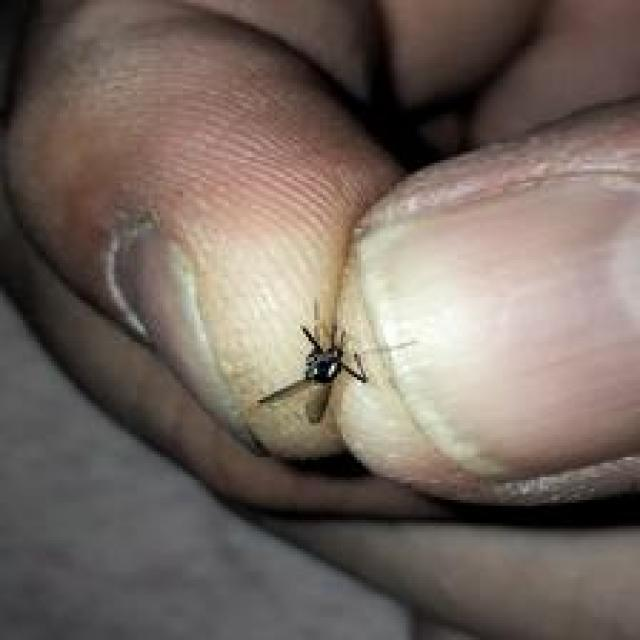Aedes albopictus: (256, 322, 370, 424)
